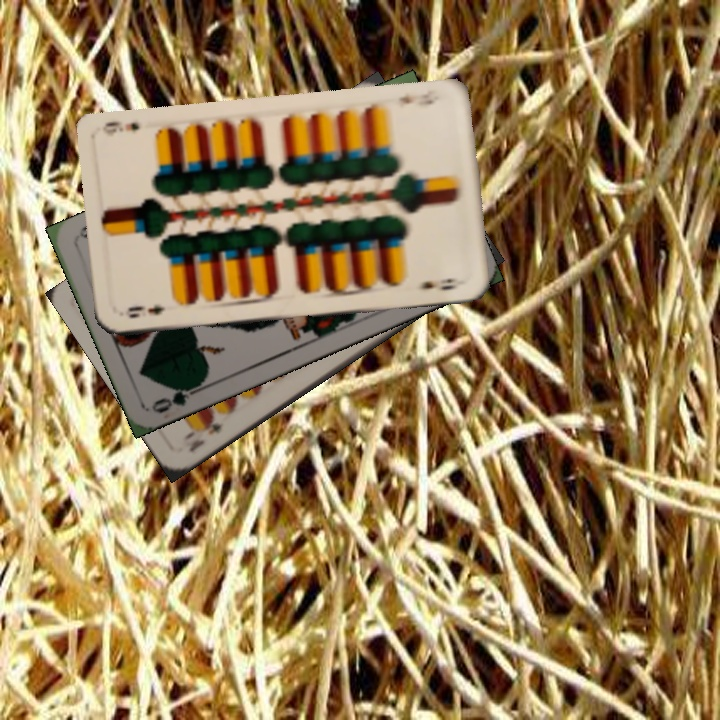E10: (180, 412, 226, 455)
E9: (394, 90, 442, 109), (124, 301, 168, 321)
GO: (148, 377, 206, 416)
